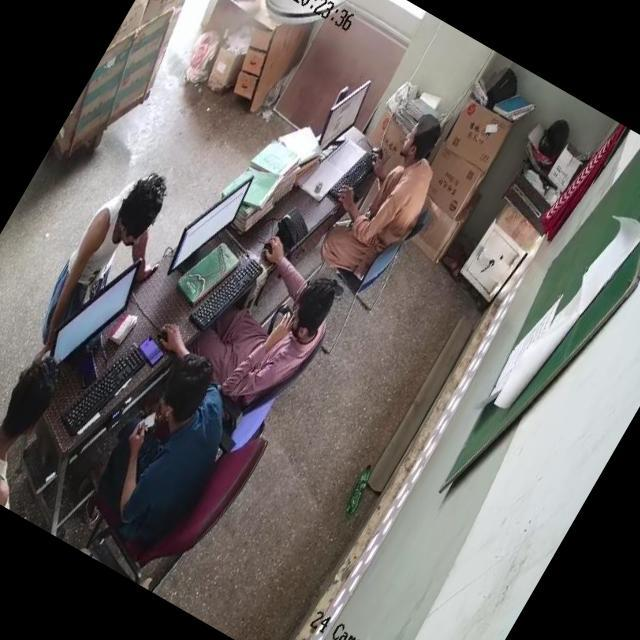person: (88, 344, 250, 536), (24, 158, 167, 359), (199, 245, 357, 410), (328, 106, 461, 280), (0, 349, 68, 501)
